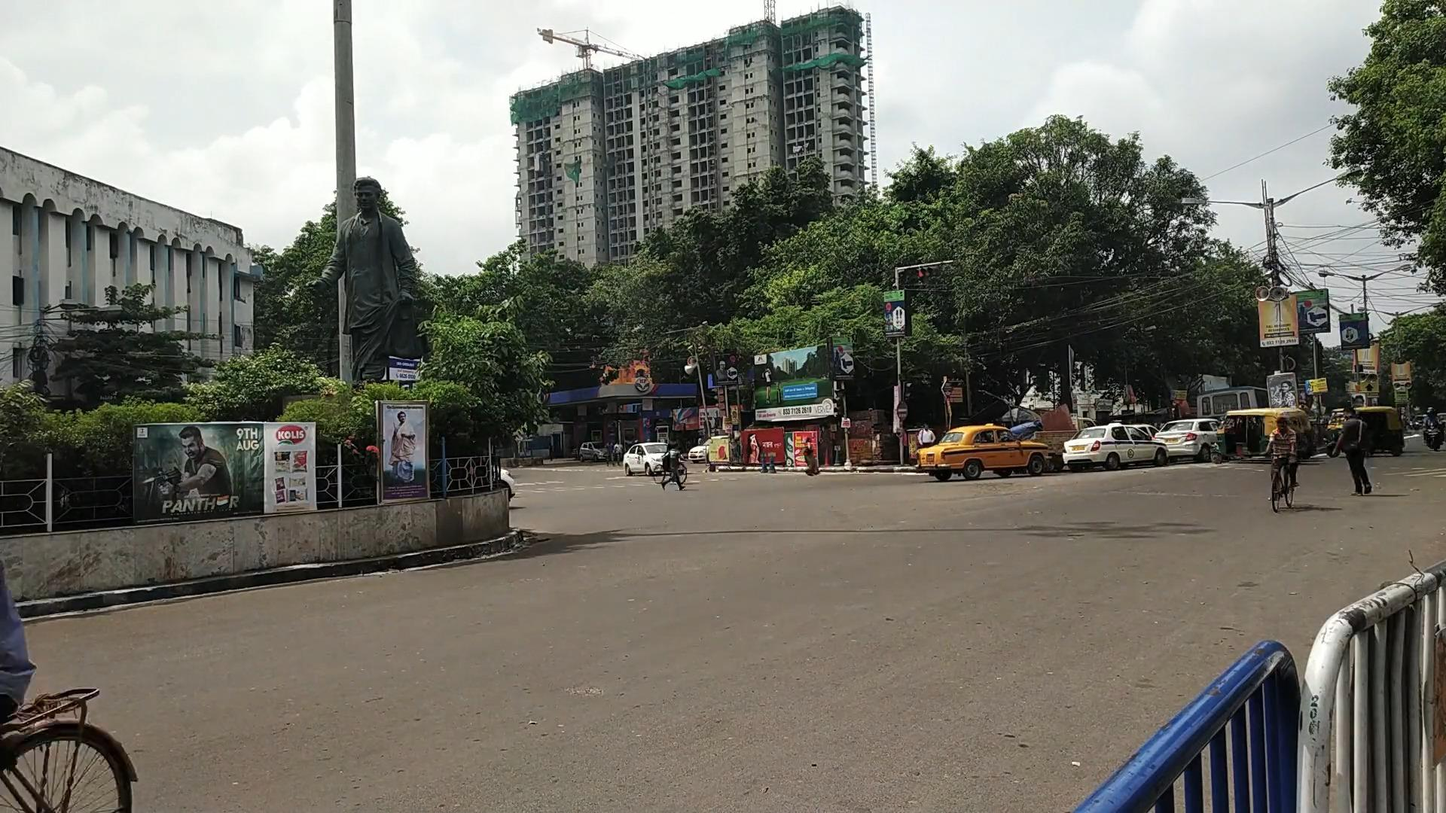bicyclist: (1260, 416, 1301, 513)
